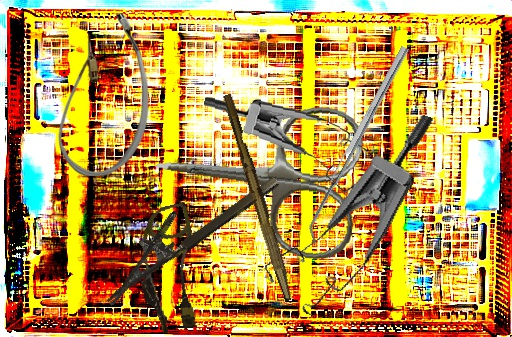Cannula: (57, 13, 149, 176), (126, 202, 212, 336)
Iris Scissors: (146, 87, 367, 264)
Needle Holder: (87, 152, 281, 307)
Scalpel Handle: (218, 92, 299, 303)
Spatula Surgical: (300, 45, 417, 245)
Speculum: (254, 82, 436, 333), (197, 94, 378, 196)
